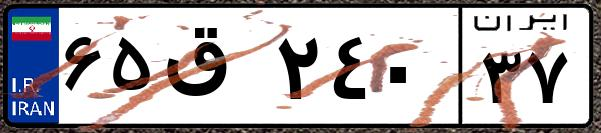0: (385, 28, 445, 110)
2: (270, 28, 330, 110)
3: (475, 38, 525, 113)
4: (330, 28, 385, 110)
5: (110, 28, 158, 98)
6: (57, 26, 110, 100)
7: (525, 38, 570, 115)
ق: (158, 20, 270, 120)
